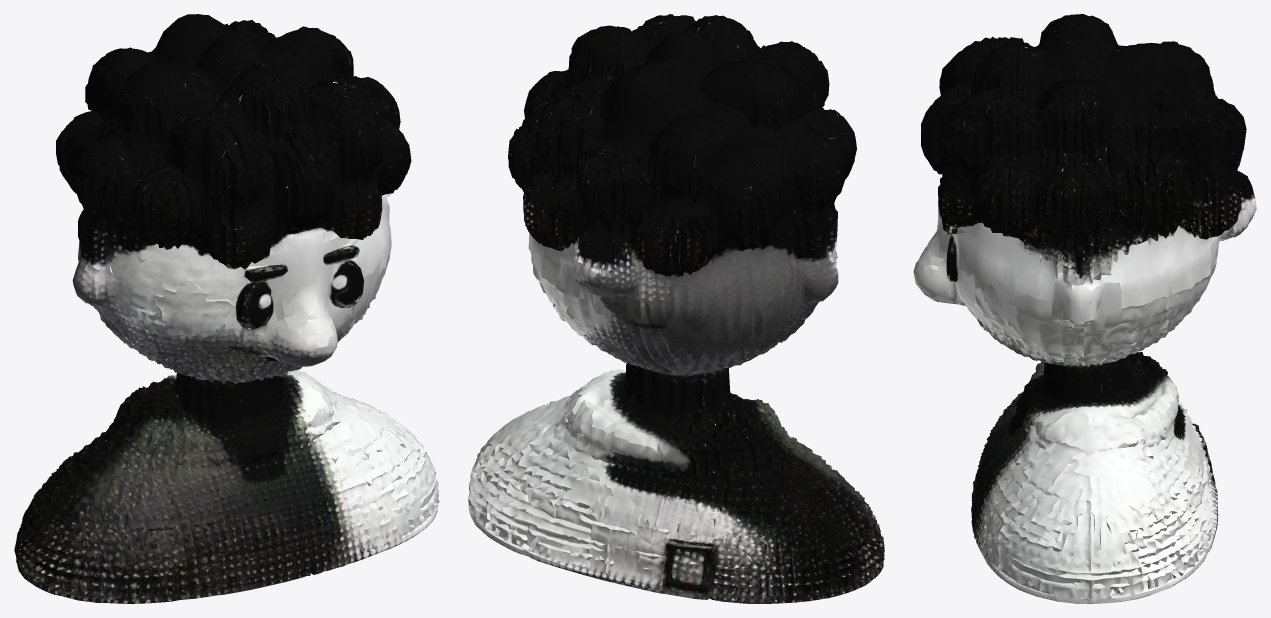
File: prop.glb
The picture shows the model from 3 angles, left to right: view 1: azimuth 30°, elevation 25°; view 2: azimuth 150°, elevation 25°; view 3: azimuth 270°, elevation 25°; orthographic projection. The views are drawn at different scales.
Parts seen in each view (by area): view 1: world; view 2: world; view 3: world.
Part boxes in pixels (left/top/right/bottom): world: left=14, top=14, right=439, bottom=603; world: left=468, top=14, right=884, bottom=603; world: left=913, top=14, right=1256, bottom=603.
Bounding box in the file's own units: 0.83 × 1 × 0.6544.
1 material, 1 textured.
